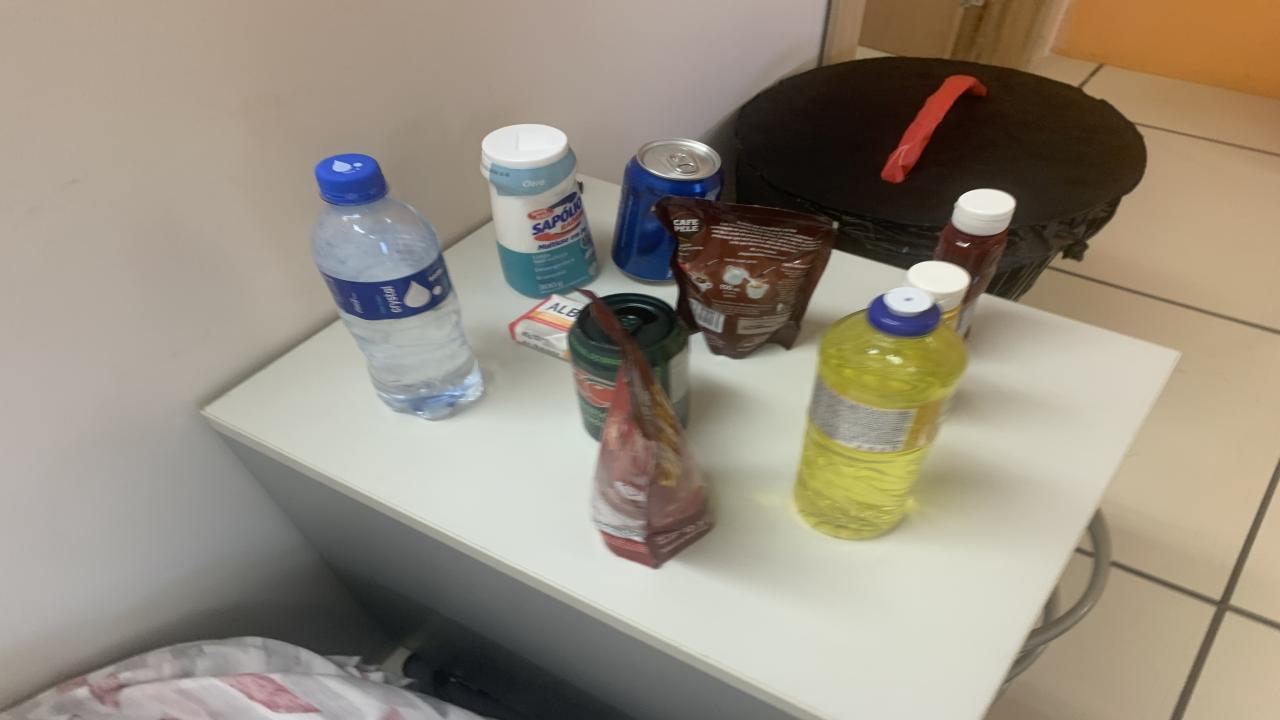Cleaner-Cleanup_Items: (480, 124, 598, 298)
Coffee-Pantry_Items: (655, 197, 835, 358)
Detergent-Cleanup_Items: (795, 287, 968, 540)
Guarana_Can-Drinks: (602, 292, 690, 426), (568, 308, 622, 439)
Ketchup-Pantry_Items: (935, 189, 1015, 336)
Mustard-Pantry_Items: (905, 261, 970, 330)
Soap-Cleanup_Items: (510, 294, 582, 360)
Tomato_Sauce-Pantry_Items: (580, 289, 712, 568)
Tonic-Drinks: (612, 139, 725, 281)
Water_Bottle-Drinks: (312, 152, 482, 418)
